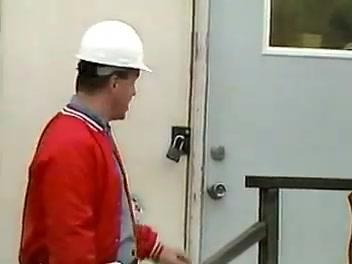helmet: (74, 17, 157, 78)
no -hi-vis jacket: (26, 109, 140, 264)
